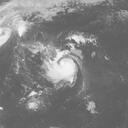cyclone: (42, 48, 83, 88)
